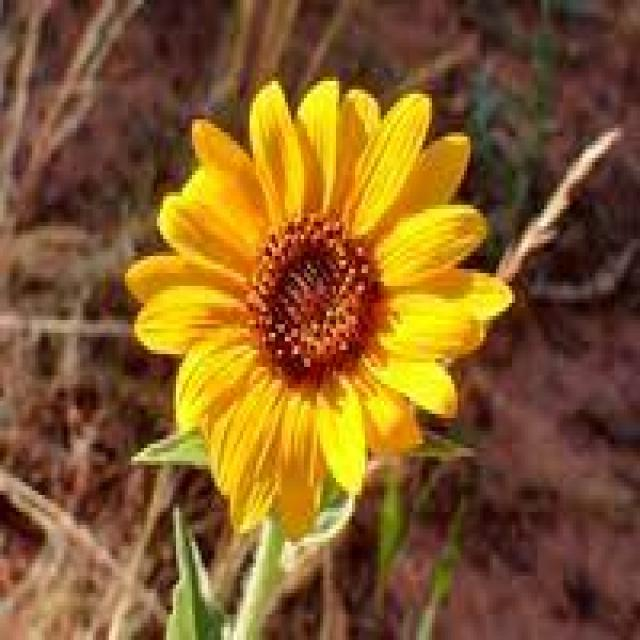sunflower: (118, 70, 525, 537)
